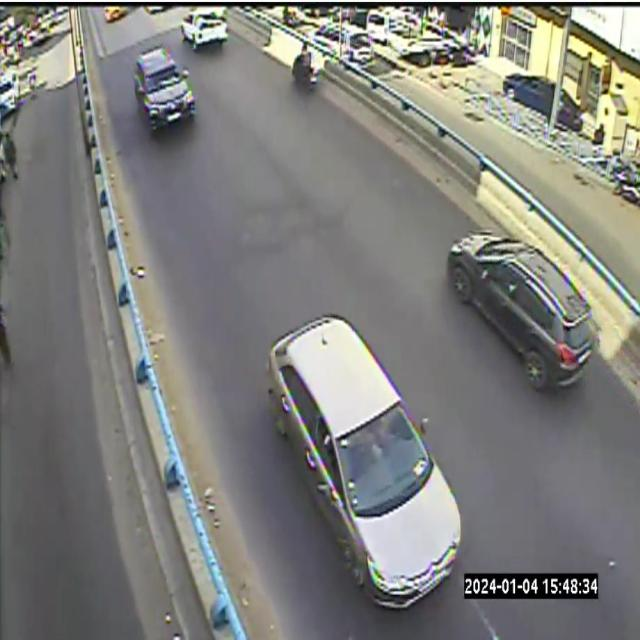car: (267, 316, 460, 608), (447, 230, 598, 390), (134, 47, 195, 131), (181, 6, 227, 49)
